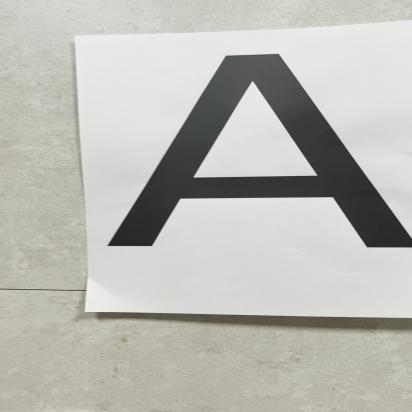seat: (92, 41, 412, 288)
